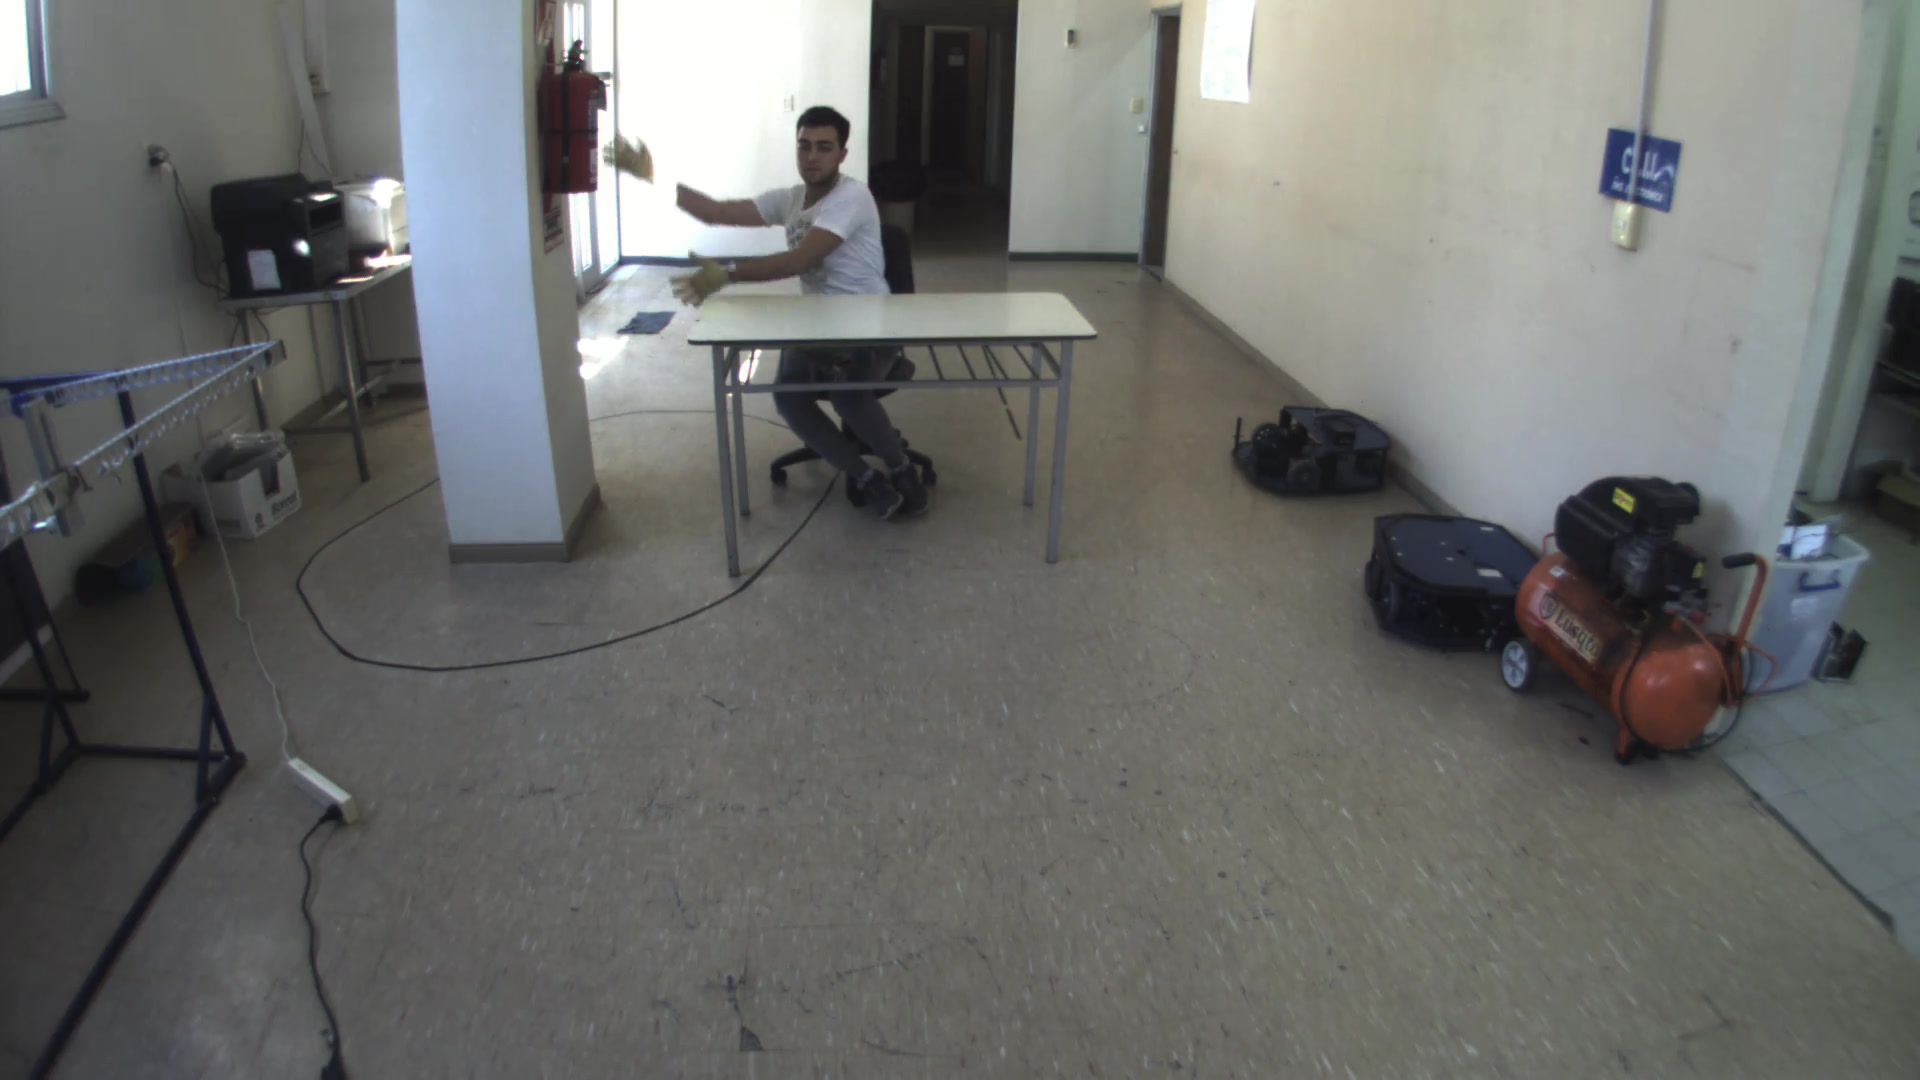hand: (662, 251, 741, 316), (603, 129, 657, 183)
